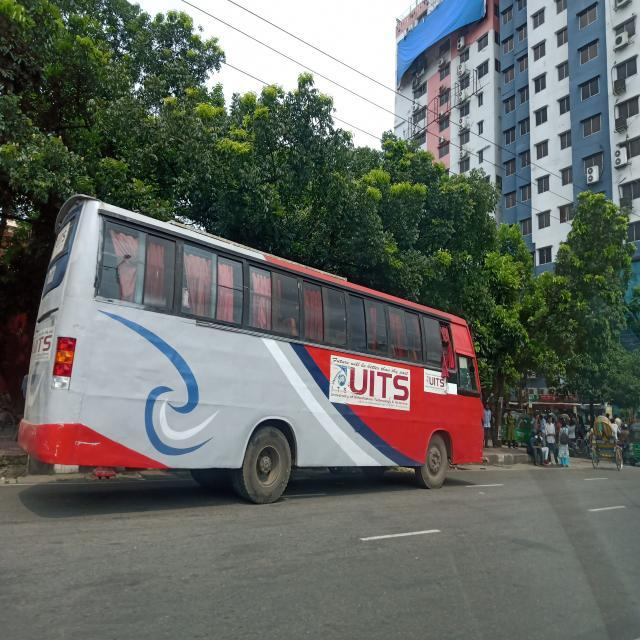bus: (16, 192, 484, 505)
